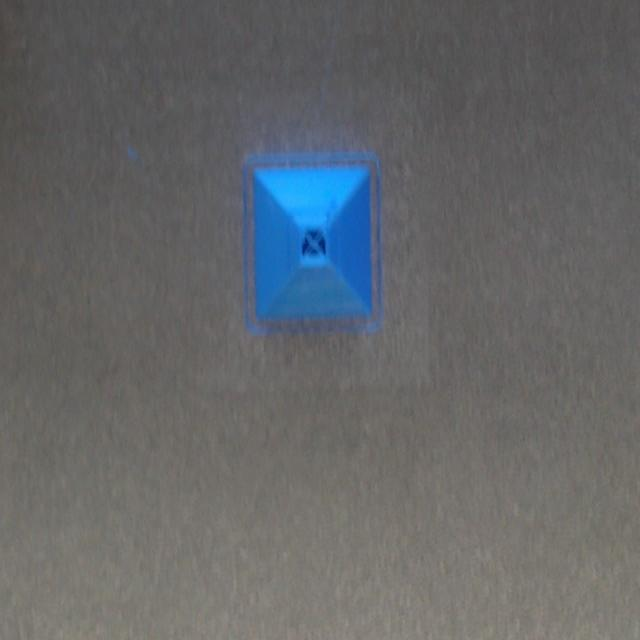mistake: (302, 229, 328, 261)
